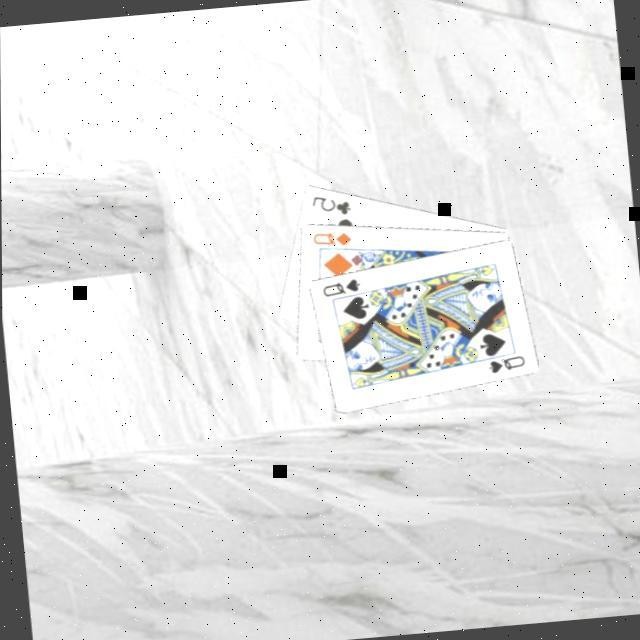5C: (306, 188, 352, 220)
QD: (306, 225, 352, 251)
QS: (481, 350, 526, 376), (315, 274, 361, 299)
